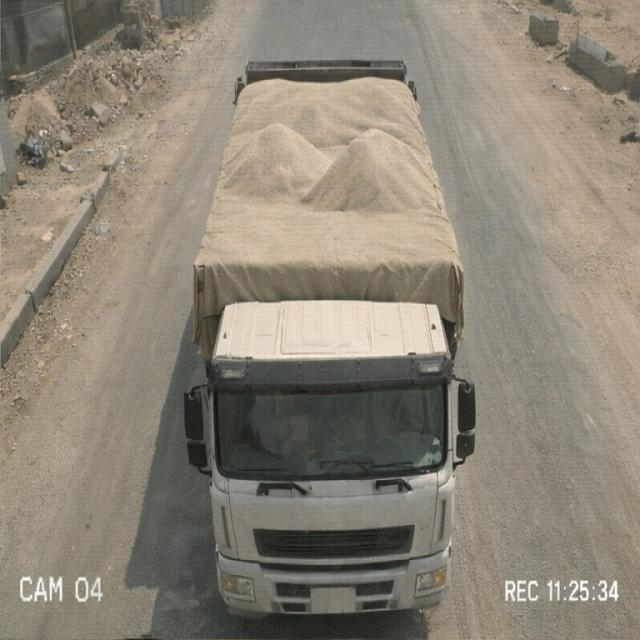Box: (198, 58, 465, 273)
Truck: (189, 38, 479, 625)
